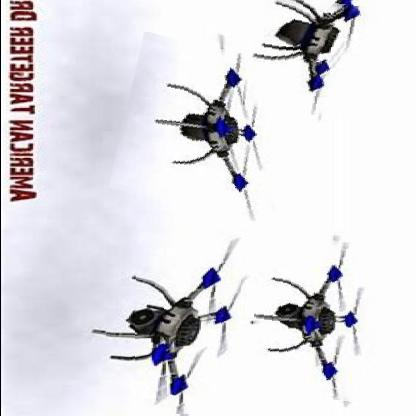drone: (116, 40, 300, 218), (87, 226, 241, 415), (248, 235, 377, 400), (245, 0, 376, 118)
